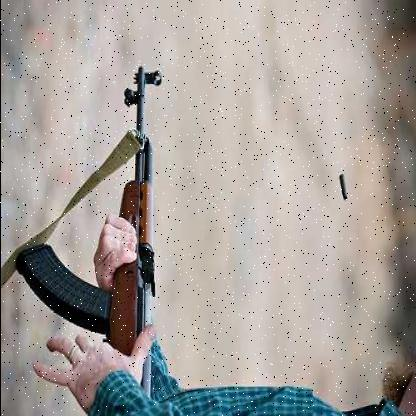rifle: (18, 45, 163, 410)
